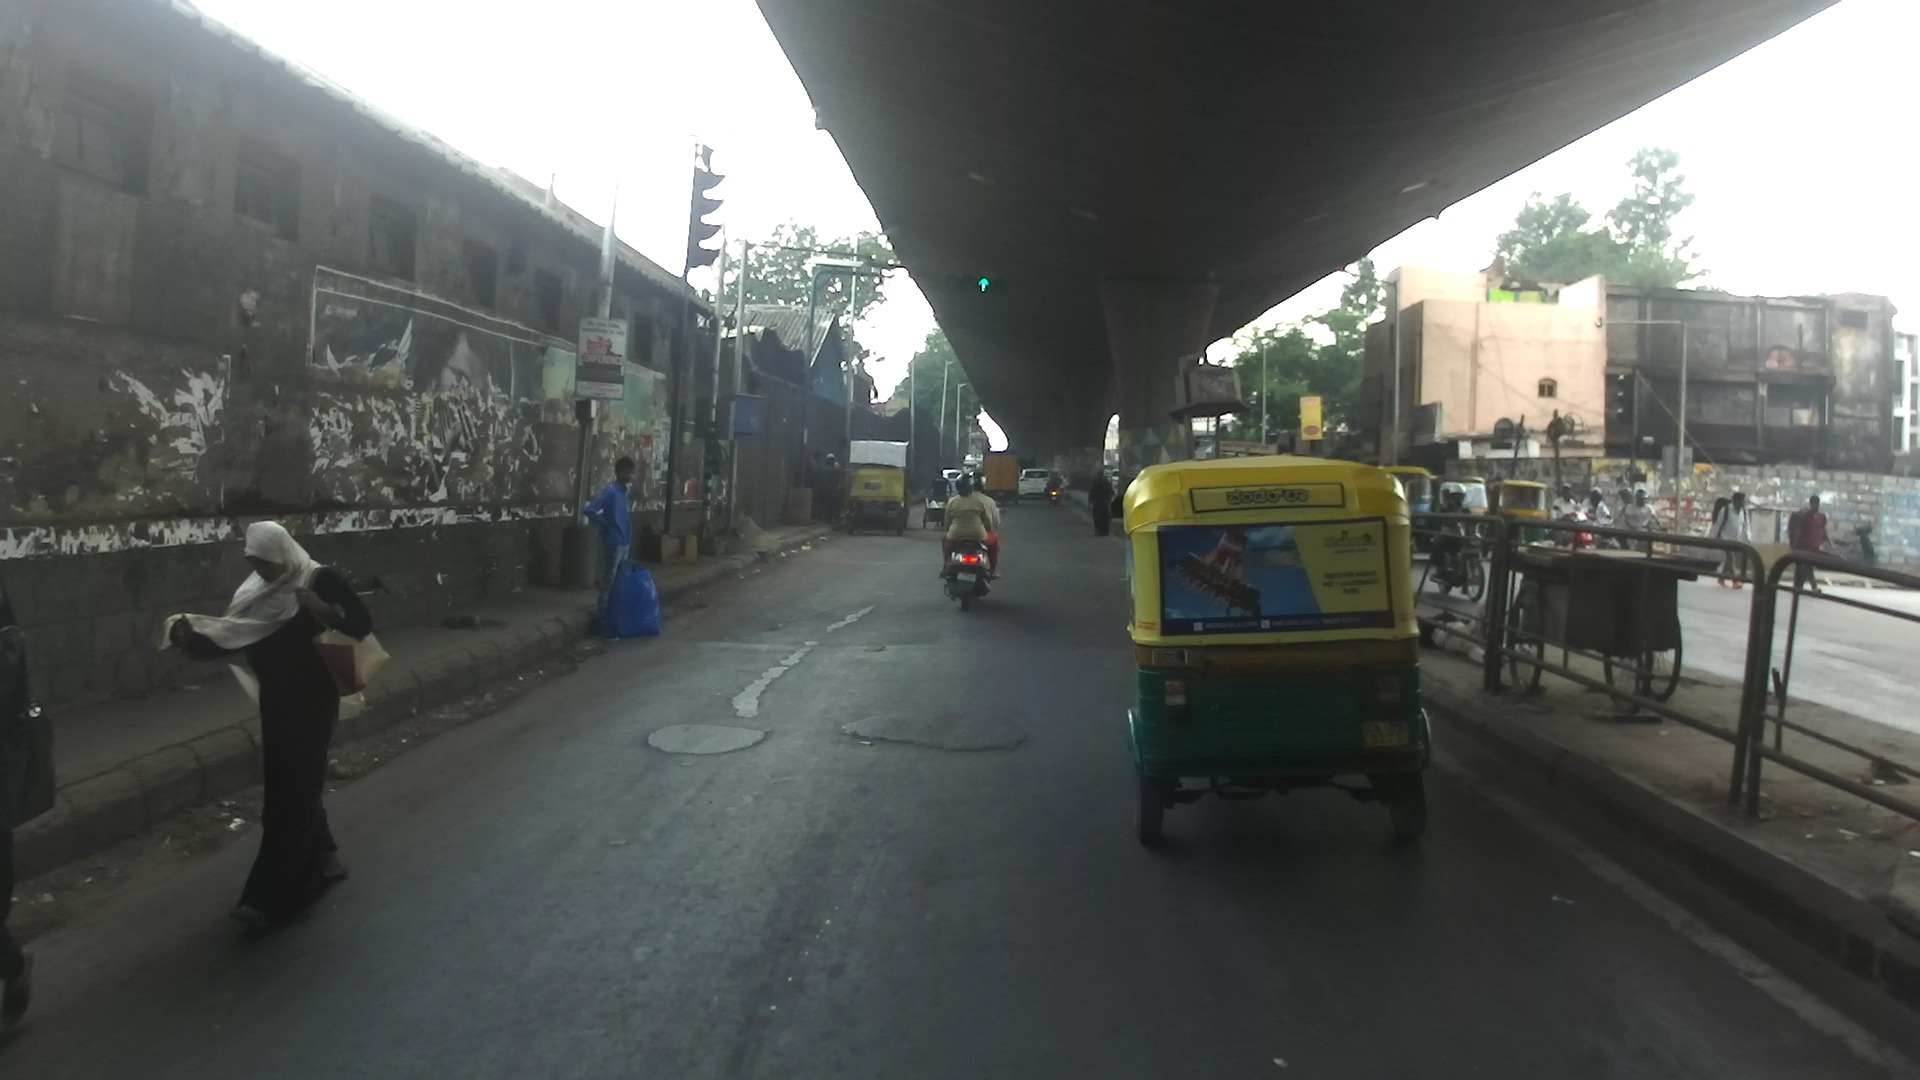autorickshaw: (1123, 453, 1435, 846), (1430, 475, 1493, 557), (1486, 480, 1548, 562), (1378, 466, 1433, 555), (846, 464, 909, 536)
bus: (1204, 441, 1279, 459)
car: (1017, 467, 1052, 497), (1109, 469, 1121, 489), (941, 469, 963, 479)
motorcycle: (945, 516, 1001, 611), (1430, 516, 1485, 601), (1816, 520, 1877, 572), (1551, 506, 1594, 555), (1587, 509, 1623, 556), (1636, 526, 1668, 551), (1048, 482, 1061, 507)
person: (159, 521, 390, 930), (1, 572, 55, 1029), (583, 457, 636, 641), (1707, 491, 1753, 590), (1788, 495, 1831, 593), (1086, 469, 1115, 536), (809, 450, 828, 520), (928, 468, 952, 526), (824, 453, 843, 522)
rider: (938, 474, 1003, 579), (1434, 483, 1473, 578), (968, 473, 1001, 565), (1624, 489, 1665, 537), (1432, 488, 1455, 568), (1549, 483, 1584, 526), (1612, 488, 1636, 539), (1580, 487, 1610, 525), (1044, 470, 1063, 500), (963, 466, 970, 475)
traffic light: (688, 168, 725, 267), (945, 274, 1005, 291)
truck: (982, 450, 1020, 504)
vehicle fallback: (1498, 544, 1720, 712), (923, 492, 951, 528), (962, 460, 982, 476), (974, 463, 985, 485), (1103, 465, 1114, 485)
